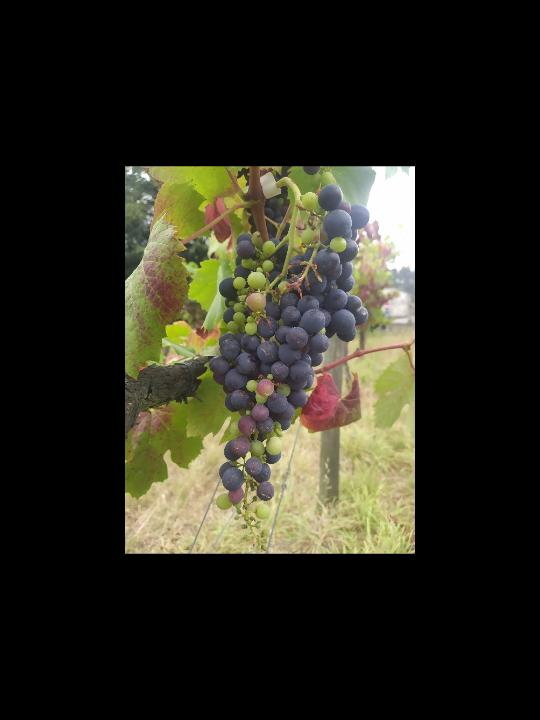grape: (210, 184, 368, 551)
